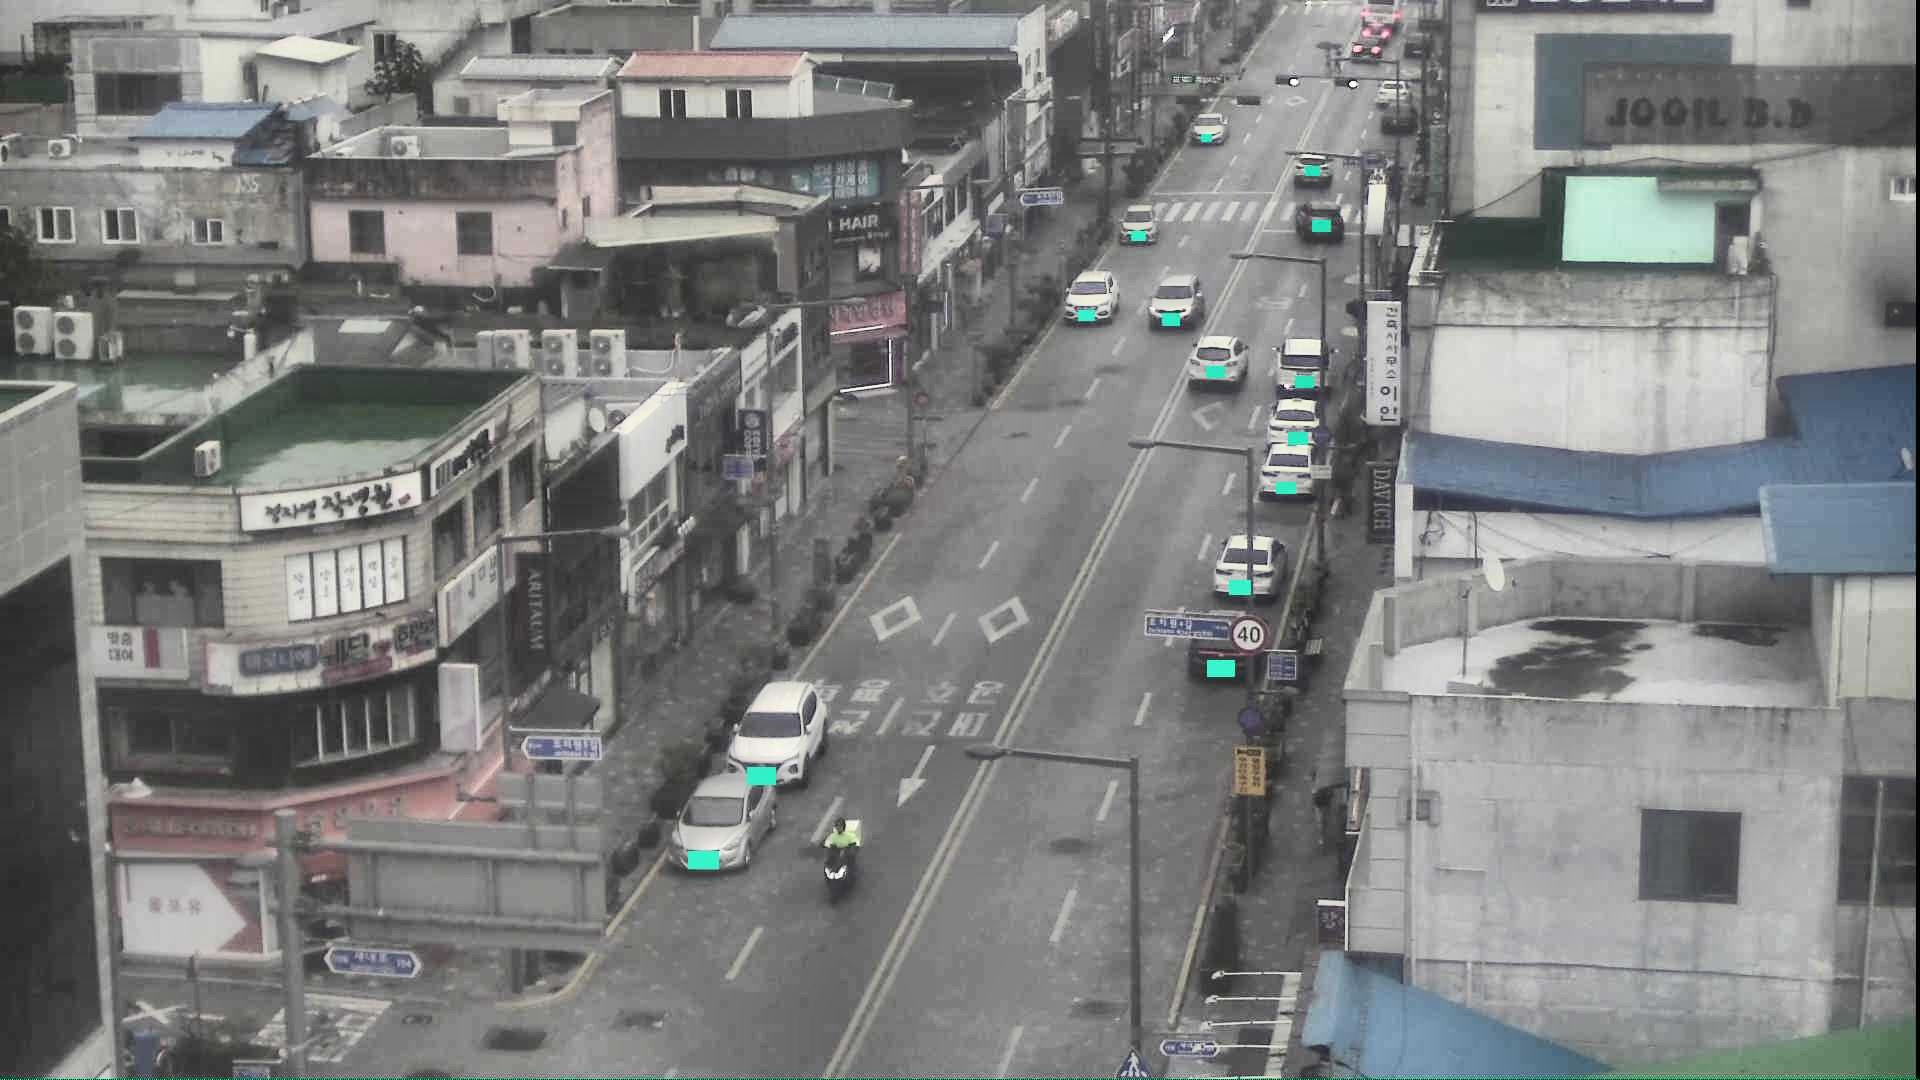sidewalk: (1313, 781, 1335, 847)
um_jaywalk: (1317, 41, 1333, 74), (1333, 44, 1344, 74)
